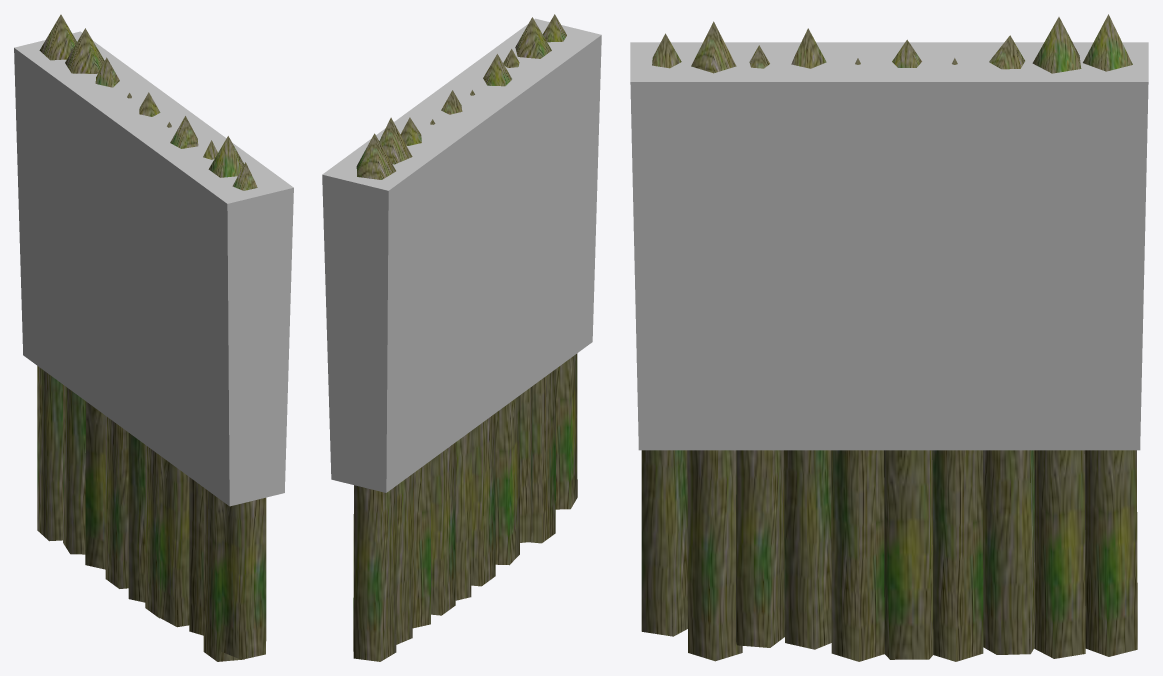
Rendered from palisade.obj.
3 views of the same model, side by side, from view 1: azimuth 30°, elevation 25°; view 2: azimuth 150°, elevation 25°; view 3: azimuth 270°, elevation 25° (orthographic). The views are drawn at different scales.
Parts seen in each view (by area): view 1: Box02, Duplicate13, Cylinder01, Duplicate10, Duplicate09, Duplicate12, Duplicate07, Duplicate08, Duplicate06, Duplicate05, Duplicate11; view 2: Box02, Duplicate10, Duplicate12, Cylinder01, Duplicate07, Duplicate05, Duplicate13, Duplicate09, Duplicate08, Duplicate06, Duplicate11; view 3: Box02, Duplicate10, Duplicate09, Duplicate12, Duplicate08, Duplicate05, Duplicate06, Duplicate07, Cylinder01, Duplicate11, Duplicate13.
Part boxes in pixels (<box>): Box02: <box>14,31,293,506</box>; Duplicate13: <box>221,162,266,659</box>; Cylinder01: <box>160,116,198,627</box>; Duplicate10: <box>37,14,76,541</box>; Duplicate09: <box>63,28,104,554</box>; Duplicate12: <box>203,136,244,661</box>; Duplicate07: <box>105,93,131,588</box>; Duplicate08: <box>85,57,119,569</box>; Duplicate06: <box>128,92,160,602</box>; Duplicate05: <box>145,122,171,618</box>; Duplicate11: <box>189,140,217,635</box>; Box02: <box>322,18,601,492</box>; Duplicate10: <box>353,133,396,661</box>; Duplicate12: <box>515,17,555,543</box>; Cylinder01: <box>483,54,520,565</box>; Duplicate07: <box>430,119,455,615</box>; Duplicate05: <box>470,90,495,586</box>; Duplicate13: <box>543,14,577,509</box>; Duplicate09: <box>379,117,413,644</box>; Duplicate08: <box>400,117,430,628</box>; Duplicate06: <box>441,90,471,600</box>; Duplicate11: <box>503,49,532,542</box>; Box02: <box>630,42,1148,450</box>; Duplicate10: <box>1083,14,1137,656</box>; Duplicate09: <box>1032,17,1085,658</box>; Duplicate12: <box>687,21,742,661</box>; Duplicate08: <box>983,35,1034,654</box>; Duplicate05: <box>831,58,884,661</box>; Duplicate06: <box>884,39,933,659</box>; Duplicate07: <box>932,58,983,661</box>; Cylinder01: <box>784,28,831,649</box>; Duplicate11: <box>736,45,784,647</box>; Duplicate13: <box>641,33,687,636</box>.
Bounding box in the file's own units: 9.39 × 70.3 × 52.18.
